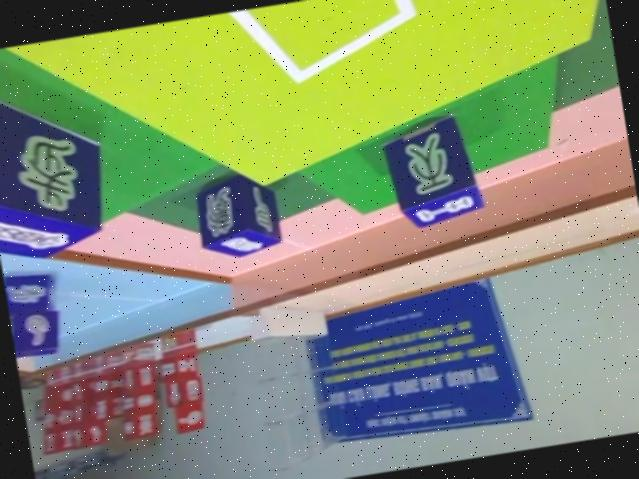R2 Fake Blue: (0, 79, 116, 264), (377, 111, 486, 232), (189, 166, 284, 262)
